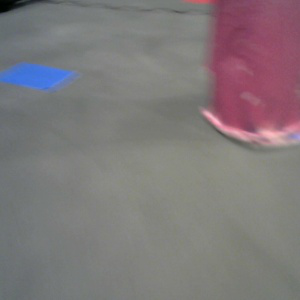Right: (199, 1, 300, 147)
